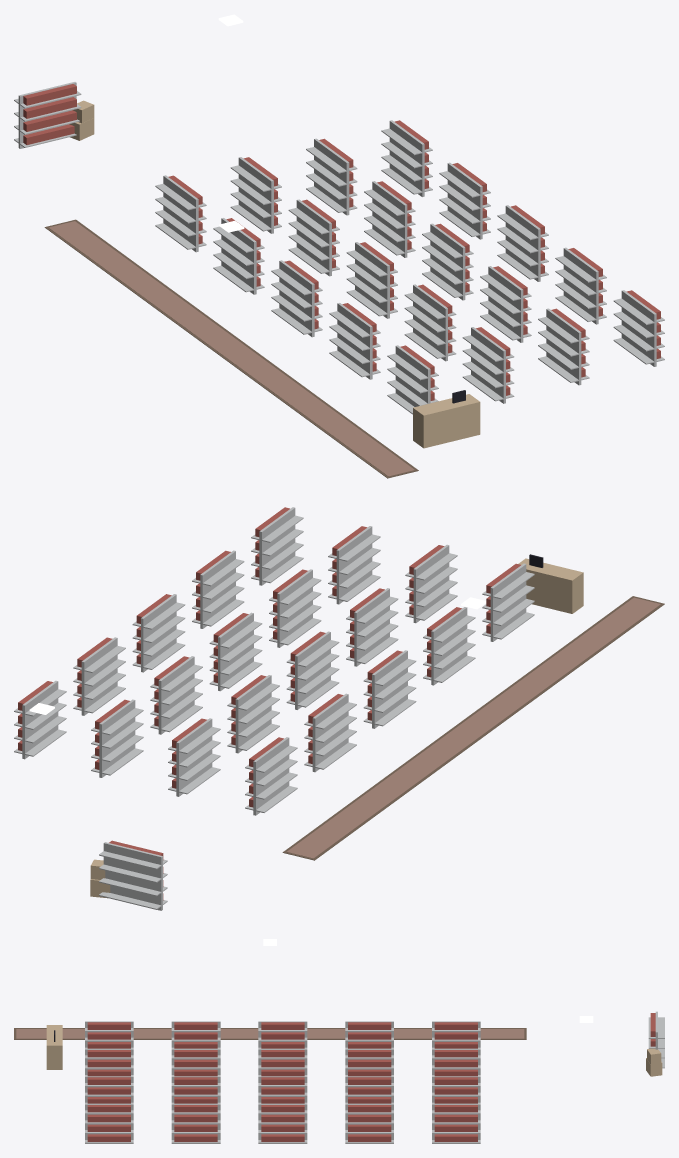
The model's file is fine-s0.glb.
3 views of the same model, one above another, from view 1: azimuth 30°, elevation 25°; view 2: azimuth 150°, elevation 25°; view 3: azimuth 270°, elevation 25° (orthographic). The views are drawn at different scales.
Visible parts, largest first — view 1: soft-s0, shelving.000, shop-counter.000, shelf.008, shelf.014, shelf.000, shelf.012, shelf.013, shelf.002, shelf.006, shelf.010, shelf.015 (+12 smaller); view 2: soft-s0, shelving.000, shelf.002, shelf.011, shelf.004, shelf.017, shelf.000, shelf.001, shelf.009, shelf.014, shelf.019, shelf.003 (+11 smaller); view 3: soft-s0, shelf.017, shelf.018, shelf.015, shelf.016, shelf.019, shelf.007, shelf.008, shelf.005, shelf.006, shelf.009, shelf.002 (+12 smaller).
Part boxes in pixels (box(x1,y1,x2,y2)): soft-s0: box(44, 219, 418, 478); shelving.000: box(14, 82, 81, 148); shop-counter.000: box(413, 390, 480, 448); shelf.008: box(404, 284, 456, 361); shelf.014: box(538, 308, 589, 385); shelf.000: box(155, 175, 206, 252); shelf.012: box(422, 223, 473, 300); shelf.013: box(480, 266, 531, 342); shelf.002: box(271, 260, 322, 337); shelf.006: box(288, 199, 339, 276); shelf.010: box(306, 138, 357, 215); shelf.015: box(381, 120, 432, 196); soft-s0: box(282, 596, 664, 860); shelving.000: box(99, 840, 167, 910); shelf.002: box(363, 650, 416, 728); shelf.011: box(150, 656, 202, 734); shelf.004: box(482, 563, 534, 641); shelf.017: box(132, 594, 185, 672); shelf.000: box(245, 737, 297, 815); shelf.001: box(304, 693, 356, 772); shelf.009: box(405, 544, 457, 623); shelf.014: box(328, 526, 380, 604); shelf.019: box(251, 507, 303, 585); shelf.003: box(423, 607, 475, 685); soft-s0: box(14, 1028, 526, 1039); shelf.017: box(258, 1103, 307, 1143); shelf.018: box(171, 1103, 220, 1143); shelf.015: box(432, 1103, 480, 1143); shelf.016: box(345, 1103, 393, 1143); shelf.019: box(85, 1103, 133, 1143); shelf.007: box(258, 1048, 307, 1076); shelf.008: box(171, 1048, 220, 1076); shelf.005: box(432, 1048, 480, 1076); shelf.006: box(345, 1048, 393, 1076); shelf.009: box(85, 1048, 133, 1076); shelf.002: box(258, 1021, 307, 1048).
Size of the model in its own units: 10.35 by 3.75 by 24.02.
